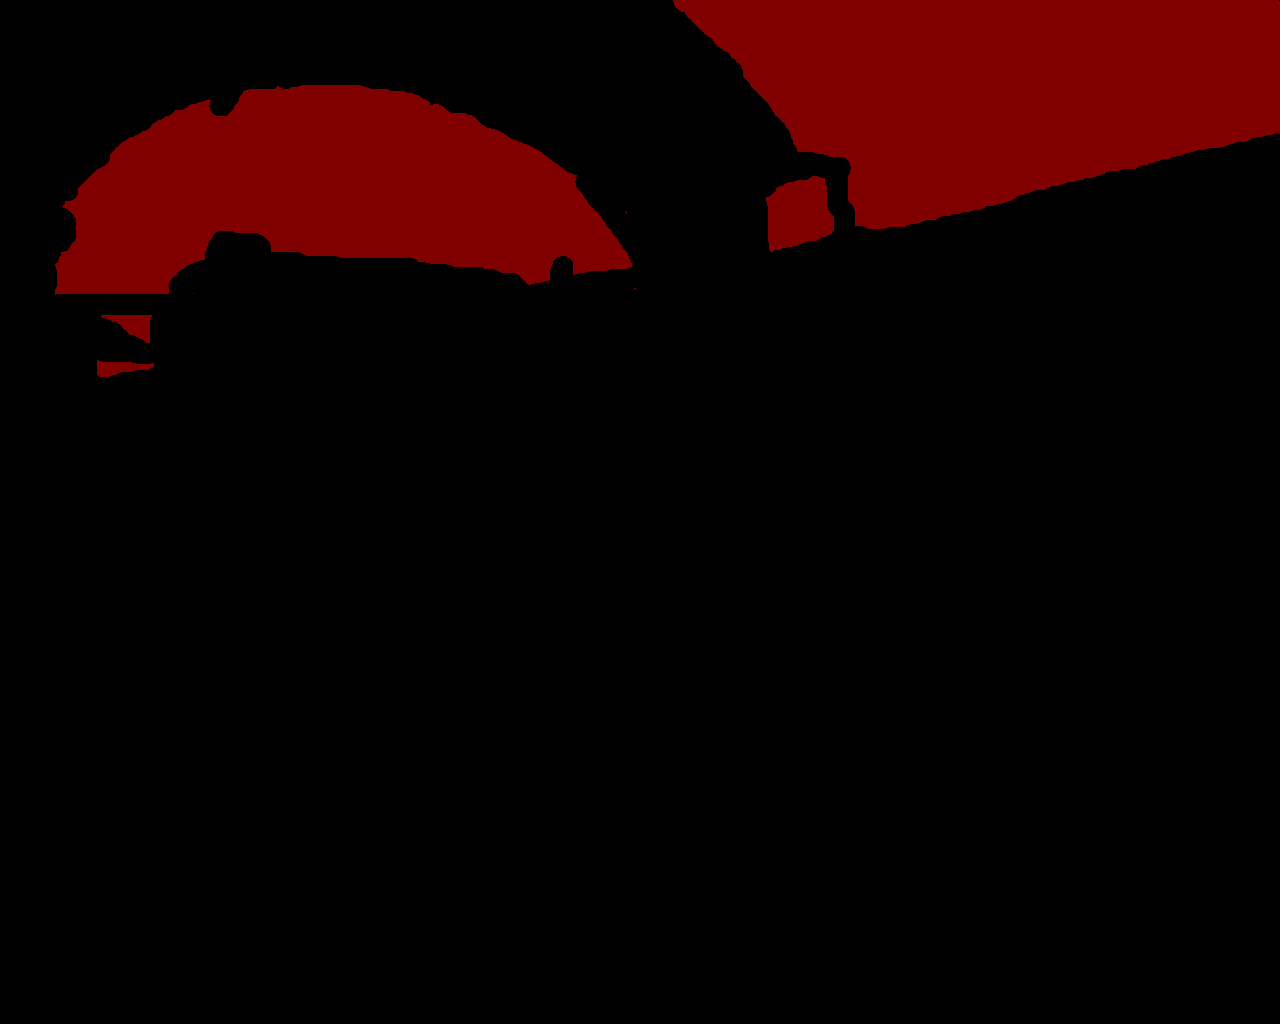Sky: (56, 1, 1279, 377)
